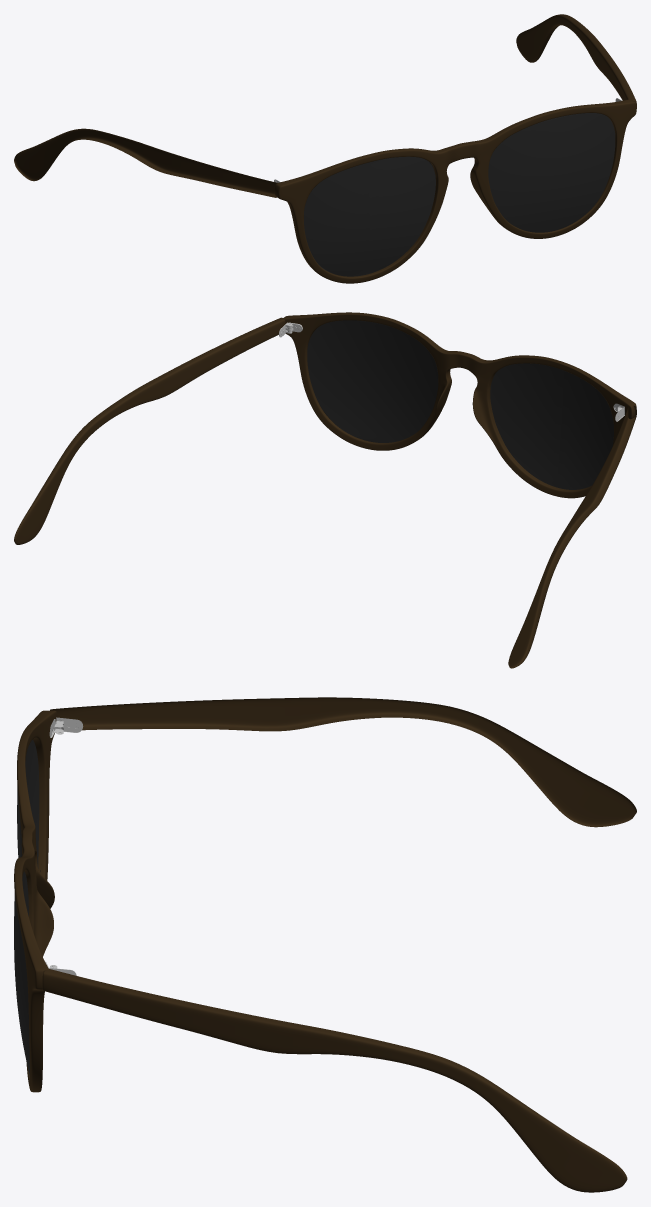
File: sunglasses1.glb
3 renders of one model, top to bottom at view 1: azimuth 30°, elevation 25°; view 2: azimuth 150°, elevation 25°; view 3: azimuth 270°, elevation 25°, orthographic. The views are drawn at different scales.
Visible parts, largest first — view 1: Sphere002, Sphere001, Line001, Line003, Line002; view 2: Sphere001, Sphere002, Line001, Line002, Line003; view 3: Line002, Line003, Line001, Sphere001, Sphere002.
Part boxes in pixels (left/top/right/bottom): Sphere002: left=304, top=156, right=435, bottom=276; Sphere001: left=488, top=113, right=615, bottom=232; Line001: left=274, top=99, right=636, bottom=283; Line003: left=14, top=128, right=277, bottom=197; Line002: left=516, top=14, right=636, bottom=108; Sphere001: left=307, top=320, right=438, bottom=442; Sphere002: left=490, top=363, right=613, bottom=489; Line001: left=283, top=312, right=636, bottom=498; Line002: left=14, top=317, right=285, bottom=544; Line003: left=508, top=405, right=636, bottom=668; Line002: left=42, top=969, right=627, bottom=1192; Line003: left=50, top=697, right=636, bottom=827; Line001: left=14, top=710, right=57, bottom=1092; Sphere001: left=14, top=871, right=29, bottom=1075; Sphere002: left=17, top=739, right=40, bottom=871.
Bounding box in the file's own units: 0.1657 × 0.041 × 0.1182.
